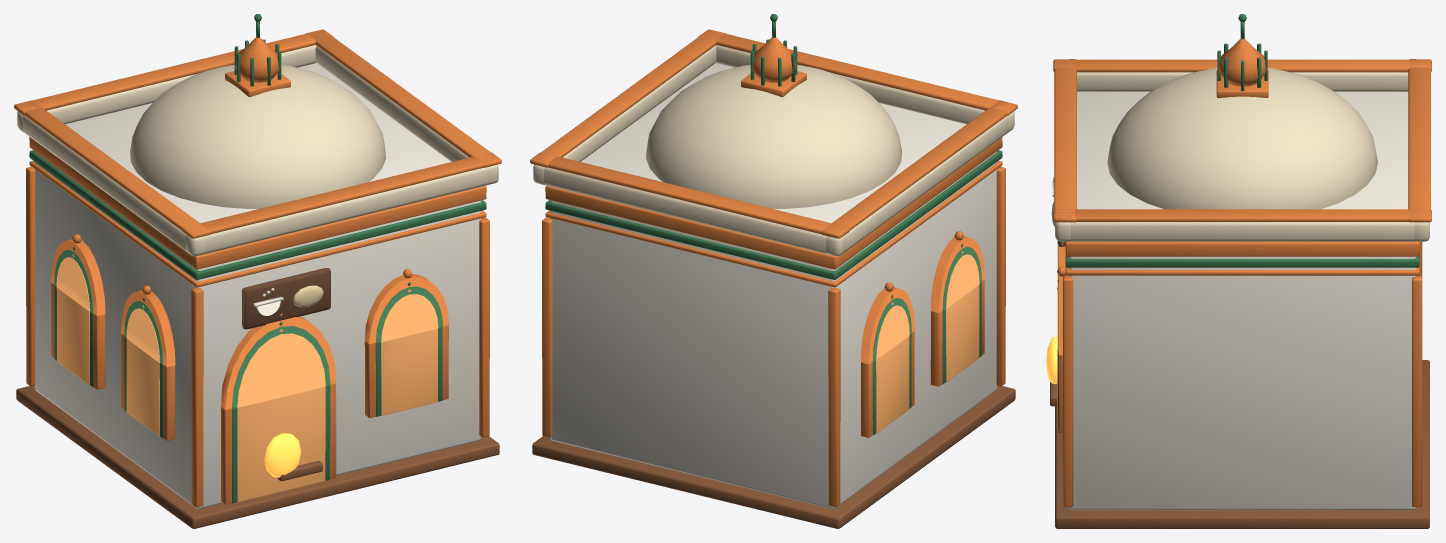
The model's file is curry.glb.
3 views of the same model, side by side, from view 1: azimuth 30°, elevation 25°; view 2: azimuth 150°, elevation 25°; view 3: azimuth 270°, elevation 25° (orthographic). The views are drawn at different scales.
Parts seen in each view (by area): view 1: curry; view 2: curry; view 3: curry.
Boxes of the visible parts, x1,y1,x2,y2 form: curry: [14, 14, 501, 528]; curry: [530, 14, 1017, 528]; curry: [1046, 14, 1431, 528].
Bounding box in the file's own units: 2.18 × 2.78 × 2.22.
